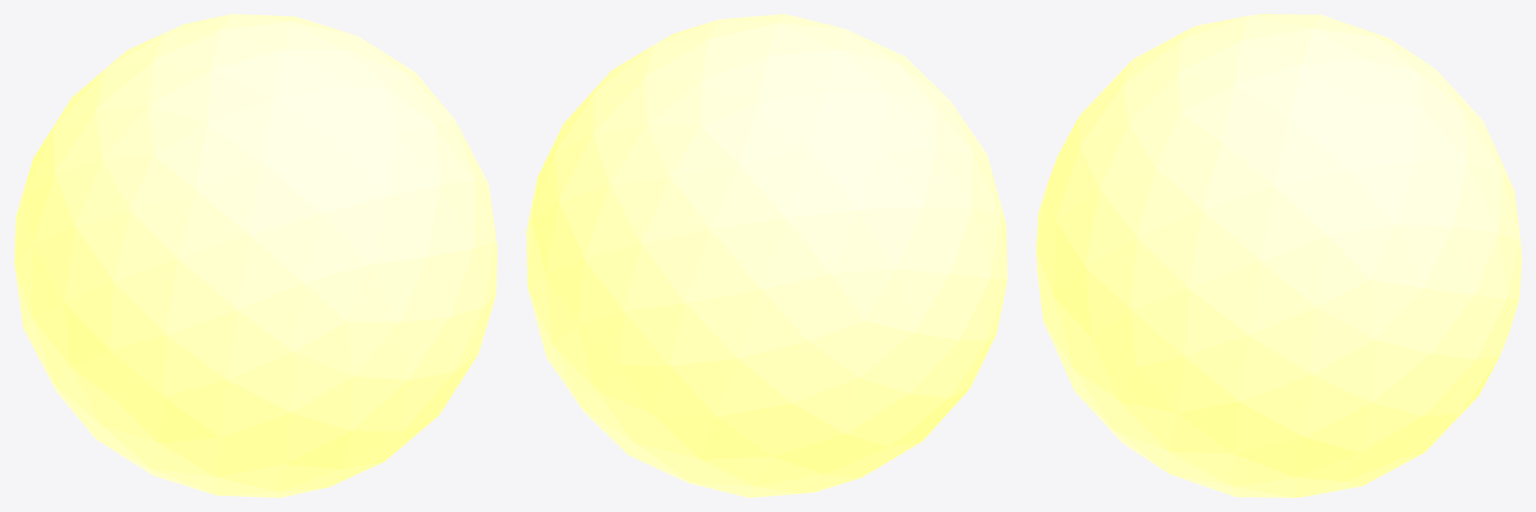
The model's file is sun.glb.
3 views of the same model, side by side, from view 1: azimuth 30°, elevation 25°; view 2: azimuth 150°, elevation 25°; view 3: azimuth 270°, elevation 25° (orthographic).
Parts seen in each view (by area): view 1: Sun_Icosphere.012; view 2: Sun_Icosphere.012; view 3: Sun_Icosphere.012.
Boxes of the visible parts, x1,y1,x2,y2 form: Sun_Icosphere.012: [14, 14, 497, 497]; Sun_Icosphere.012: [526, 14, 1007, 497]; Sun_Icosphere.012: [1036, 14, 1521, 497].
Size of the model in its own units: 9.36 by 9.35 by 9.39.
